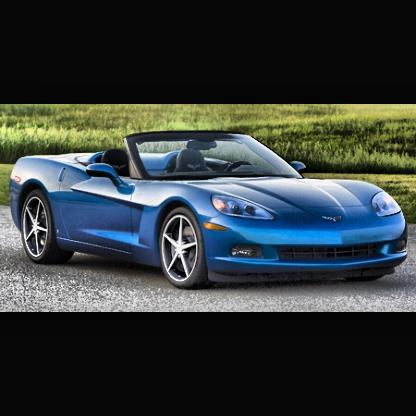Chevrolet Corvette Convertible 2012: (10, 132, 411, 292)
